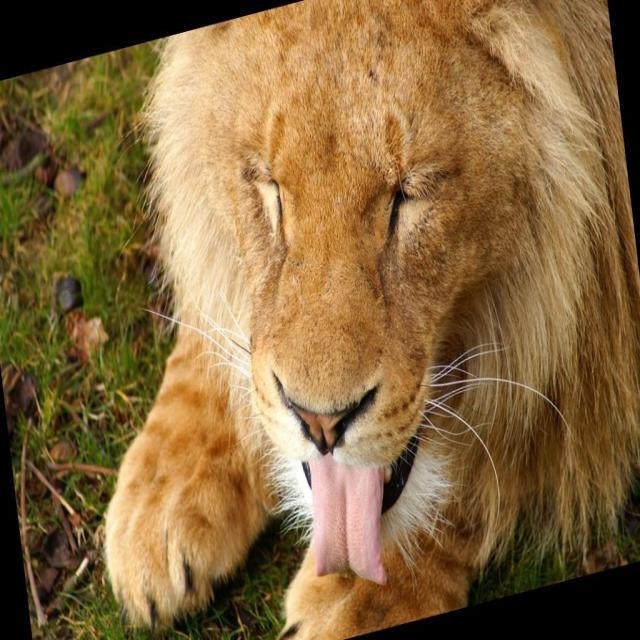Lion: (46, 0, 640, 639)
